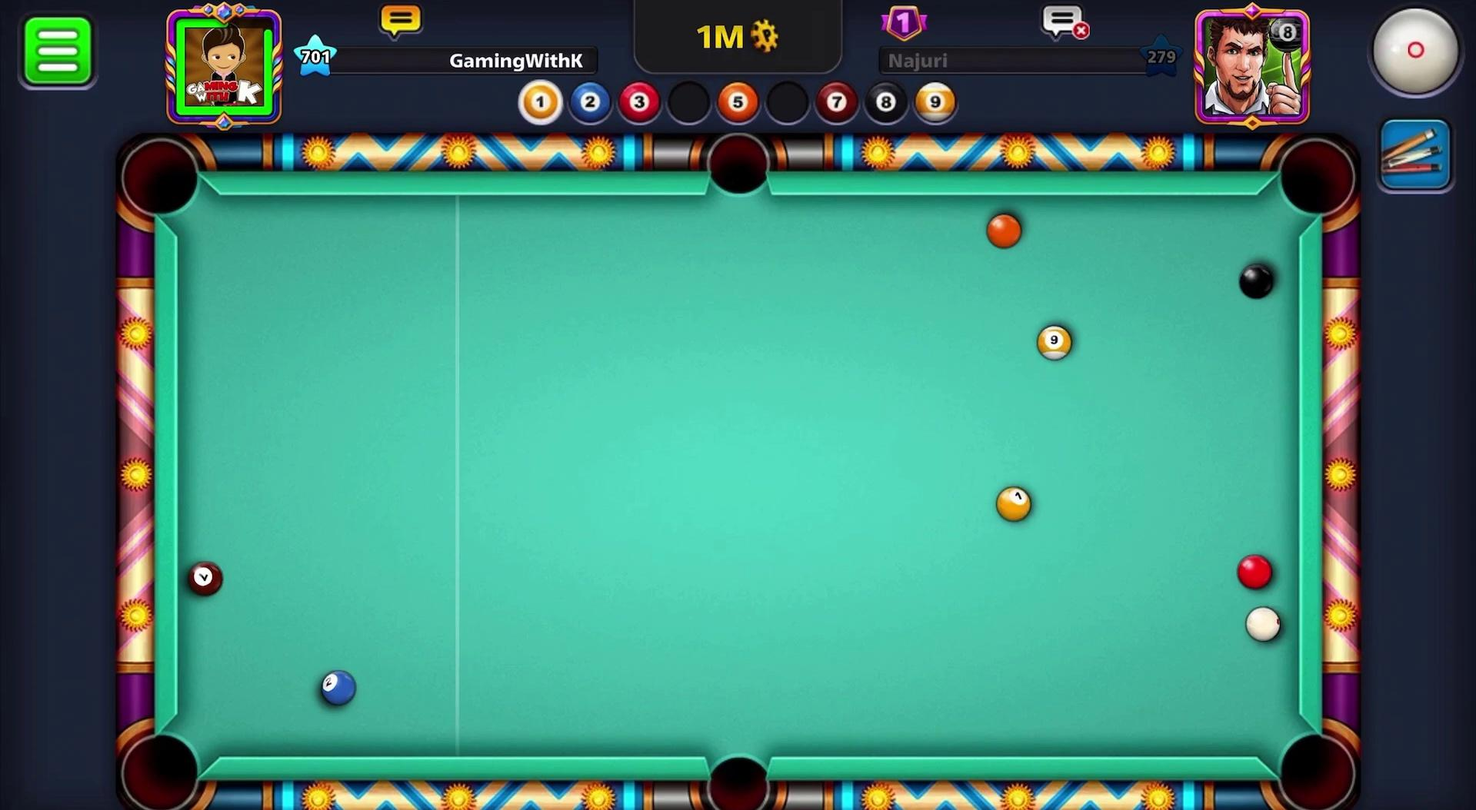Ball: (1032, 317, 1078, 369), (993, 482, 1036, 529), (981, 210, 1025, 253), (1236, 549, 1278, 590), (1238, 259, 1278, 301), (184, 556, 224, 596), (317, 668, 355, 705)
Hole: (107, 128, 213, 231), (108, 712, 219, 809), (1267, 130, 1366, 232), (1266, 712, 1363, 809), (696, 125, 784, 207), (688, 739, 785, 809)
Play_Area: (176, 194, 1308, 762)
Spin: (1343, 0, 1474, 115)
White: (1244, 603, 1288, 647)
